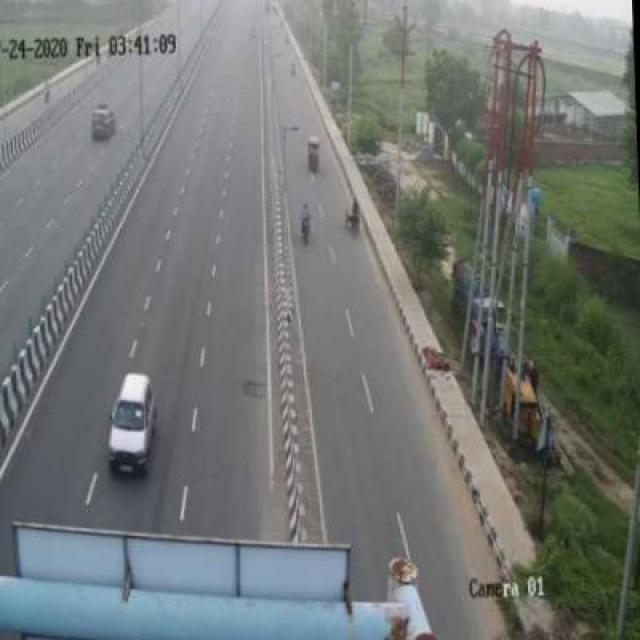car: (99, 366, 165, 484)
